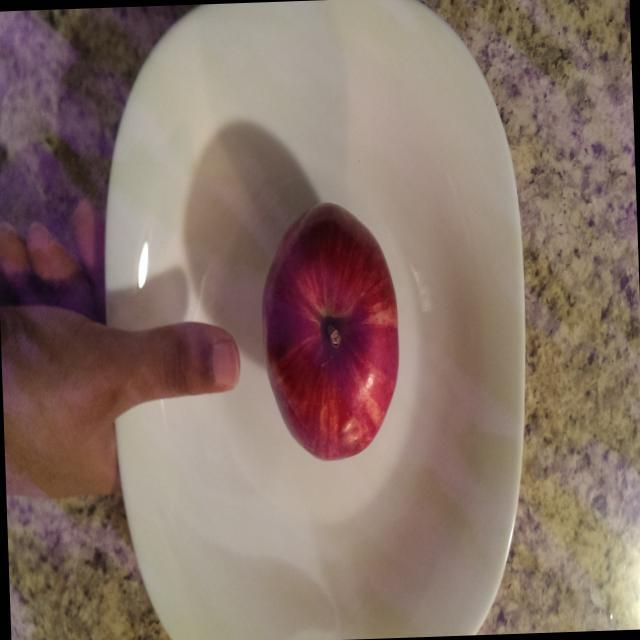Apple: (256, 193, 408, 464)
Finger: (151, 313, 245, 405)
